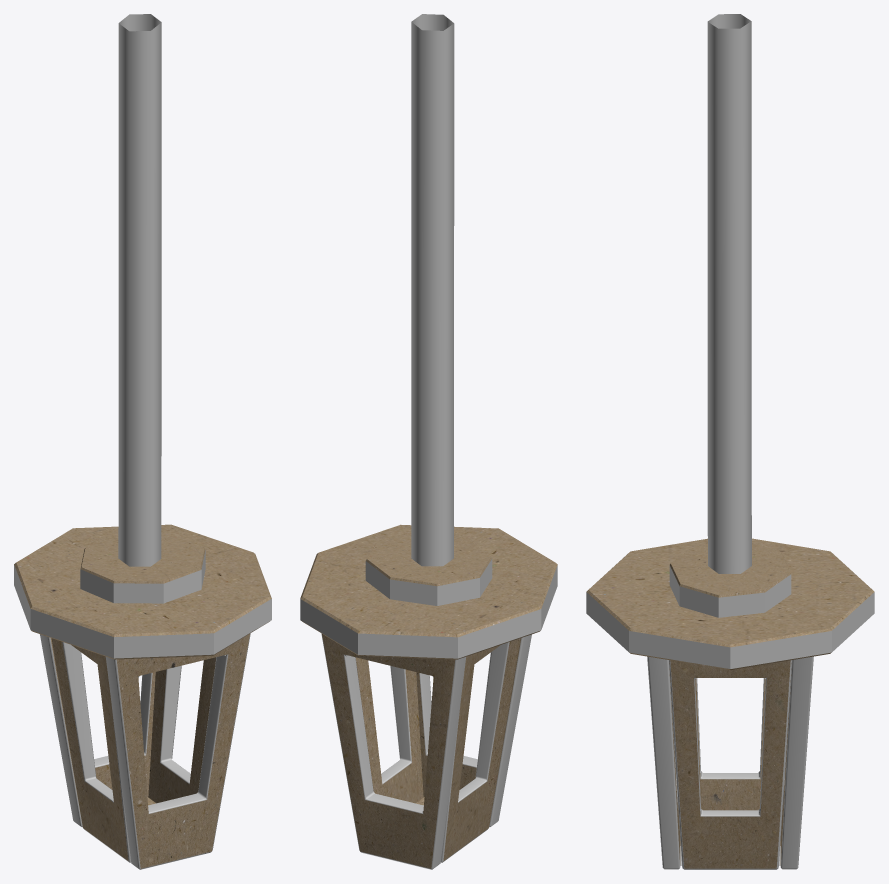
Rendered from SM_Lantern01.FBX.
3 renders of one model, left to right at view 1: azimuth 30°, elevation 25°; view 2: azimuth 150°, elevation 25°; view 3: azimuth 270°, elevation 25°, orthographic.
Parts seen in each view (by area): view 1: SM_Lantern01; view 2: SM_Lantern01; view 3: SM_Lantern01.
Boxes of the visible parts, x1=… form: SM_Lantern01: x1=14, y1=14, x2=271, y2=869; SM_Lantern01: x1=300, y1=14, x2=557, y2=869; SM_Lantern01: x1=586, y1=14, x2=874, y2=869.
Bounding box in the file's own units: 1.21 × 4.21 × 1.33.
